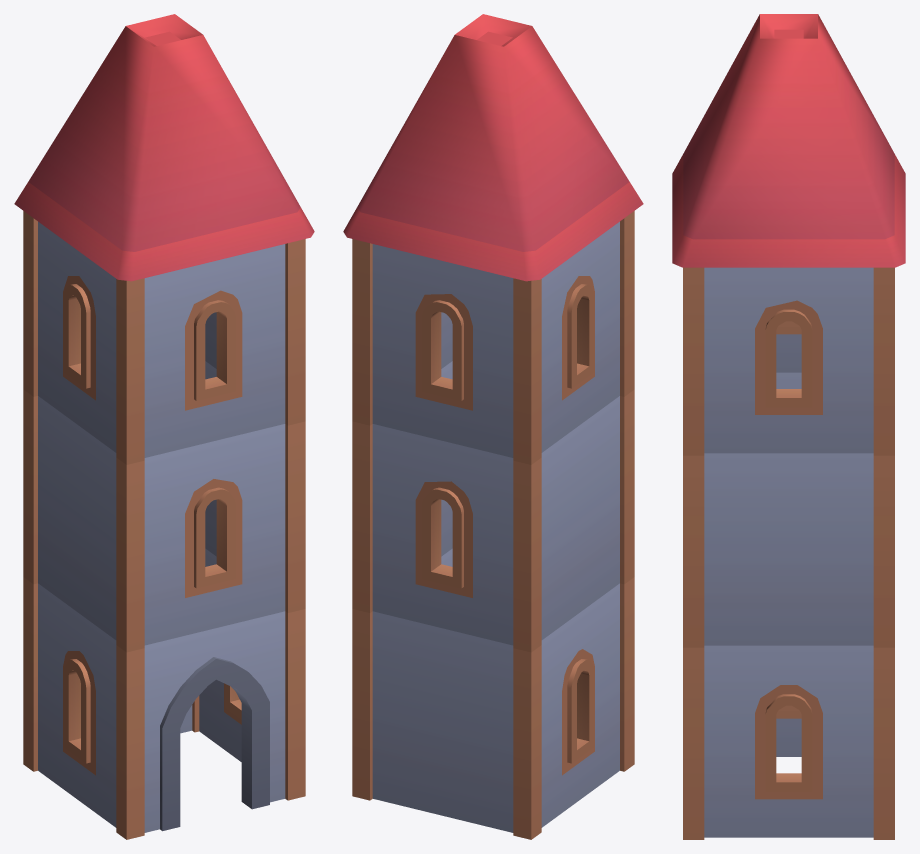
Rendered from elf_a.glb.
3 renders of one model, left to right at view 1: azimuth 30°, elevation 25°; view 2: azimuth 150°, elevation 25°; view 3: azimuth 270°, elevation 25°, orthographic. The views are drawn at different scales.
Visible parts, largest first — view 1: wall-doorway-round; view 2: wall-doorway-round; view 3: wall-doorway-round.
Part boxes in pixels (<box>): wall-doorway-round: <box>14,14,314,839</box>; wall-doorway-round: <box>343,14,643,839</box>; wall-doorway-round: <box>672,14,905,839</box>.
Bounding box in the file's own units: 1.1 × 4 × 1.1.
1 material, 1 textured.
